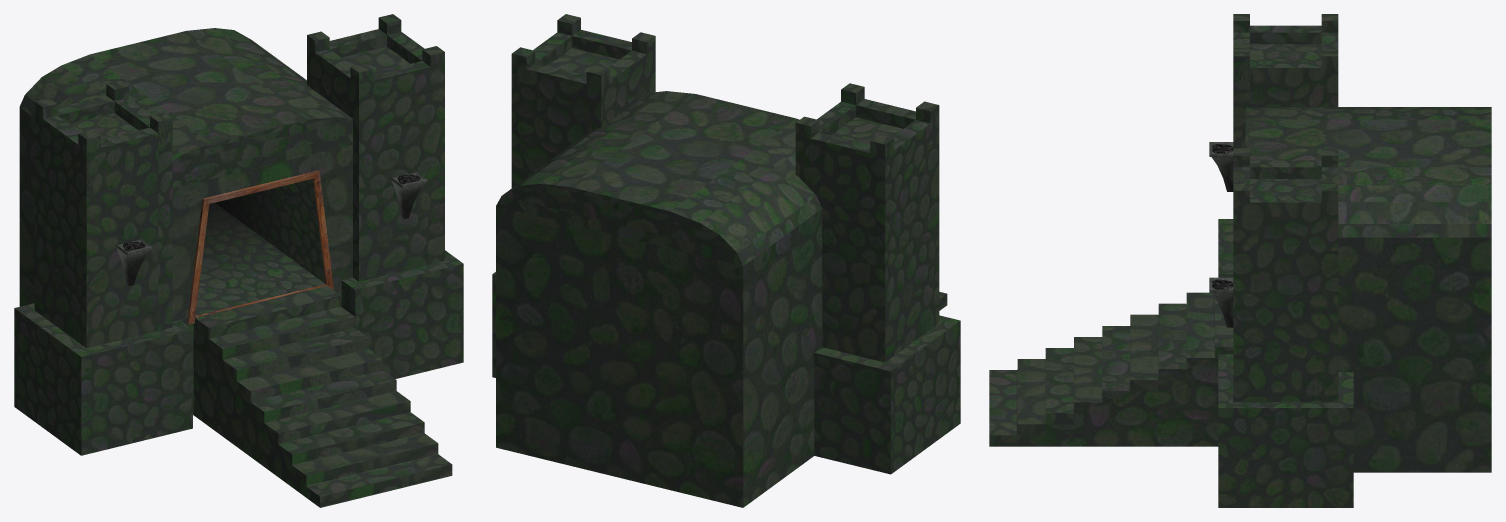
The model's file is prop_stronghold.fbx.
The picture shows the model from 3 angles, left to right: view 1: azimuth 30°, elevation 25°; view 2: azimuth 150°, elevation 25°; view 3: azimuth 270°, elevation 25°; orthographic projection. The views are drawn at different scales.
Parts seen in each view (by area): view 1: prop_stronghold.017; view 2: prop_stronghold.017; view 3: prop_stronghold.017.
Boxes of the visible parts, x1,y1,x2,y2 form: prop_stronghold.017: (14, 14, 463, 507); prop_stronghold.017: (492, 14, 960, 507); prop_stronghold.017: (989, 14, 1491, 507).
Size of the model in its own units: 29348 by 22576 by 33011.
Materials: 2 (2 with a texture image).
